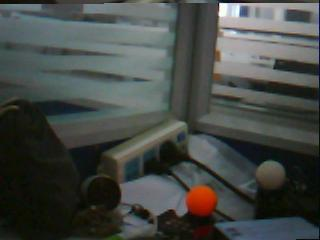oball: (187, 187, 216, 216)
